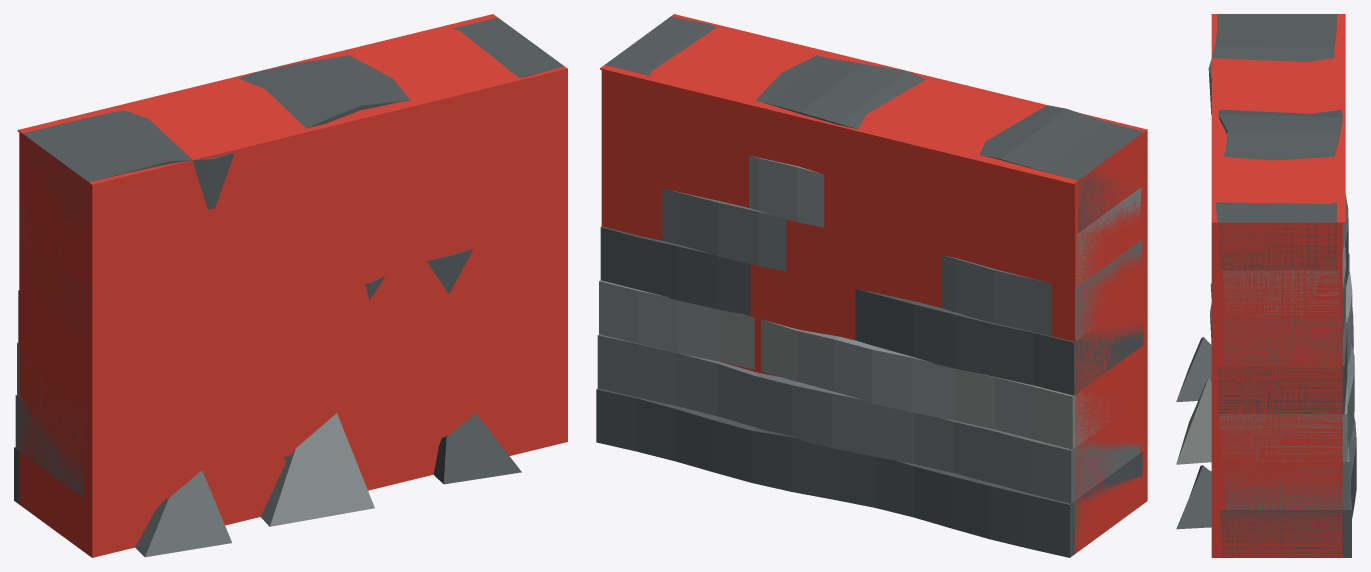
Rendered from ironwind_cliff_straight_16m.glb.
3 views of the same model, side by side, from view 1: azimuth 30°, elevation 25°; view 2: azimuth 150°, elevation 25°; view 3: azimuth 270°, elevation 25° (orthographic). The views are drawn at different scales.
Visible parts, largest first — view 1: ironwind_cliff_straight_16m_wall, ironwind_cliff_straight_16m_lod0, ironwind_cliff_straight_16m_walkable; view 2: ironwind_cliff_straight_16m_lod0, ironwind_cliff_straight_16m_wall, ironwind_cliff_straight_16m_walkable; view 3: ironwind_cliff_straight_16m_wall, ironwind_cliff_straight_16m_lod0, ironwind_cliff_straight_16m_walkable.
Part boxes in pixels (box(x1,y1,x2,y2)): ironwind_cliff_straight_16m_wall: box(19, 15, 567, 557); ironwind_cliff_straight_16m_lod0: box(14, 17, 563, 557); ironwind_cliff_straight_16m_walkable: box(17, 14, 515, 180); ironwind_cliff_straight_16m_lod0: box(596, 16, 1143, 557); ironwind_cliff_straight_16m_wall: box(601, 14, 1147, 553); ironwind_cliff_straight_16m_walkable: box(600, 29, 1133, 184); ironwind_cliff_straight_16m_wall: box(1211, 14, 1342, 557); ironwind_cliff_straight_16m_lod0: box(1176, 14, 1356, 557); ironwind_cliff_straight_16m_walkable: box(1222, 14, 1345, 223).
Size of what is drawn, in the model's own units: 16 by 12.15 by 5.86.
